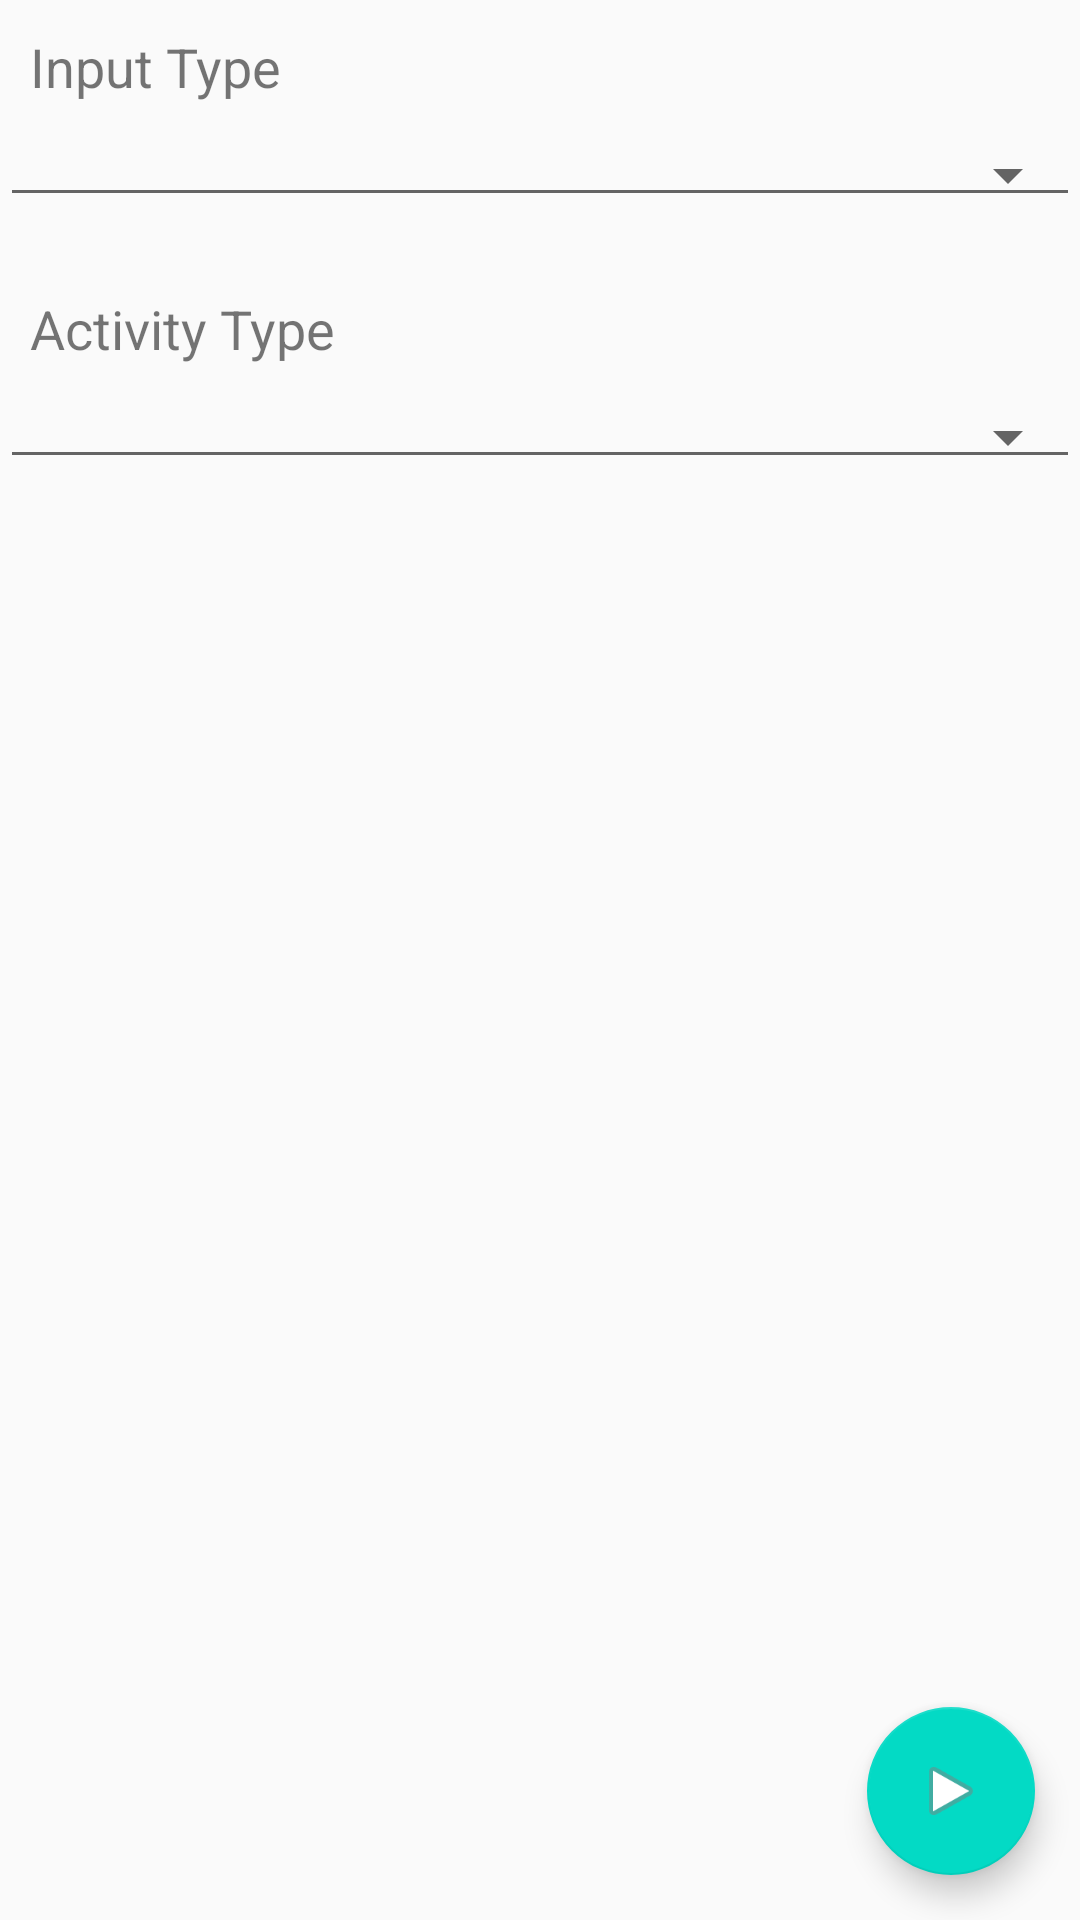

Locate icon controls on the screen. Image size 1080*1920, boxes as box=[x1, y1, x2, y2].
play: box=[867, 1707, 1035, 1875]
